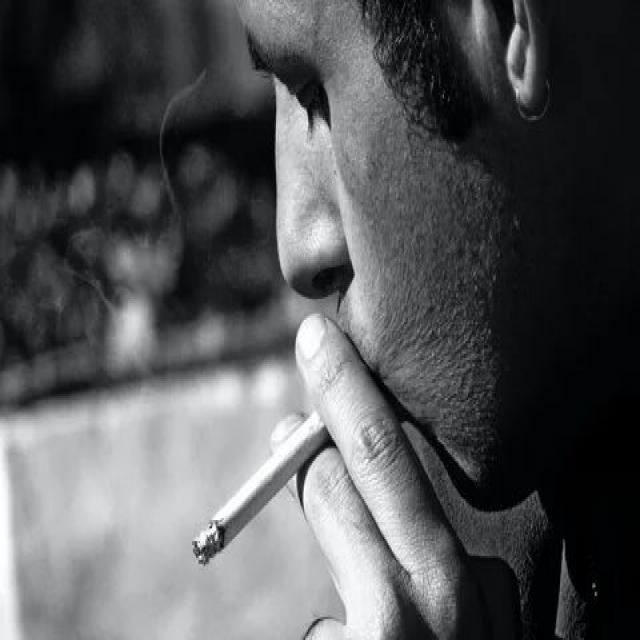cigarette: (191, 402, 332, 577)
